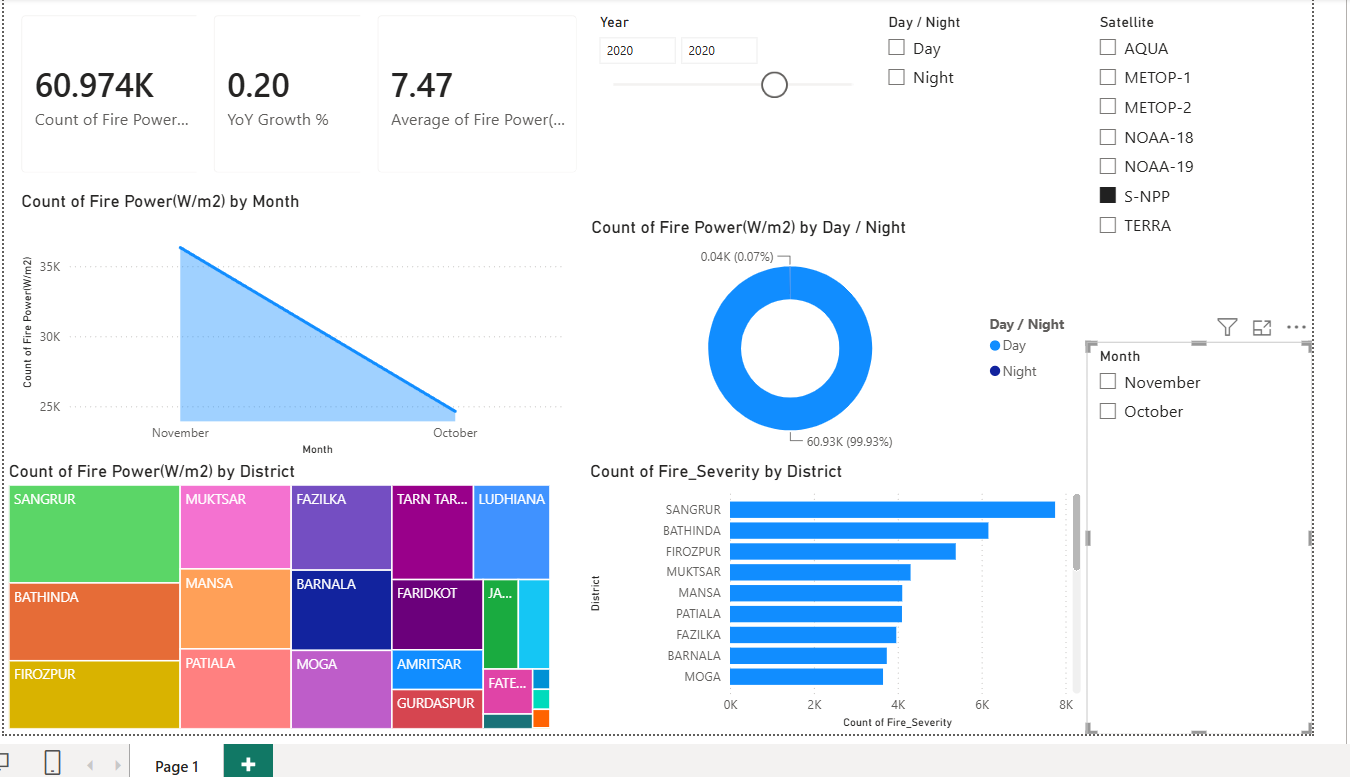

The page's visual inventory and layout, read from the dashboard file:
{"tool":"powerbi","page":{"name":"Page 1","canvas":[1280,720],"ordinal":0},"visuals":[{"type":"cardVisual","fields":{"Data":["CountNonNull(Stubble_burn_analysis.Fire Power(W/m2))"]},"box":[0,0,214,188.3],"z":0},{"type":"cardVisual","fields":{"Data":["Stubble_burn_analysis.YoY Growth %"]},"box":[188.3,0,184.6,188.3],"z":1},{"type":"slicer","fields":{"Values":["Stubble_burn_analysis.Year"]},"box":[569.8,9.8,282.5,178.5],"z":2},{"type":"slicer","fields":{"Values":["Stubble_burn_analysis.Month"]},"box":[1059.4,336.2,220.9,384.2],"z":3},{"type":"cardVisual","fields":{"Data":["Avg(Stubble_burn_analysis.Fire Power(W/m2))"]},"box":[348.5,0,229.9,188.3],"z":4},{"type":"areaChart","fields":{"Y":["CountNonNull(Stubble_burn_analysis.Fire Power(W/m2))"],"Category":["Stubble_burn_analysis.Month"]},"box":[12.3,188,542,264.8],"z":5},{"type":"donutChart","fields":{"Category":["Stubble_burn_analysis.Day / Night"],"Y":["CountNonNull(Stubble_burn_analysis.Fire Power(W/m2))"]},"box":[569.5,214.1,489.9,238.8],"z":7},{"type":"treemap","fields":{"Group":["Stubble_burn_analysis.District"],"Values":["CountNonNull(Stubble_burn_analysis.Fire Power(W/m2))"]},"box":[0,452.8,539.3,267.6],"z":8},{"type":"barChart","fields":{"Y":["CountNonNull(Stubble_burn_analysis.Fire_Severity)"],"Category":["Stubble_burn_analysis.District"]},"box":[569,453,490,267],"z":9},{"type":"slicer","fields":{"Values":["Stubble_burn_analysis.Satellite"]},"box":[1059,9.8,221.3,310.6],"z":10},{"type":"slicer","fields":{"Values":["Stubble_burn_analysis.Day / Night"]},"box":[852.3,9.8,206.7,148],"z":11}]}

Visuals, with their boxes on the page's 1280x720 design canvas (x1, y1, x2, y2). These are canvas units, not pixel positions in the 1350x777 screenshot, which may show the page scaled, cropped or inside an application window:
cardVisual - CountNonNull(Stubble_burn_analysis.Fire Power(W/m2)): [0,0,214,188]
cardVisual - Stubble_burn_analysis.YoY Growth %: [188,0,373,188]
slicer - Stubble_burn_analysis.Year: [570,10,852,188]
slicer - Stubble_burn_analysis.Month: [1059,336,1280,720]
cardVisual - Avg(Stubble_burn_analysis.Fire Power(W/m2)): [348,0,578,188]
areaChart - CountNonNull(Stubble_burn_analysis.Fire Power(W/m2)) x Stubble_burn_analysis.Month: [12,188,554,453]
donutChart - Stubble_burn_analysis.Day / Night x CountNonNull(Stubble_burn_analysis.Fire Power(W/m2)): [570,214,1059,453]
treemap - Stubble_burn_analysis.District x CountNonNull(Stubble_burn_analysis.Fire Power(W/m2)): [0,453,539,720]
barChart - CountNonNull(Stubble_burn_analysis.Fire_Severity) x Stubble_burn_analysis.District: [569,453,1059,720]
slicer - Stubble_burn_analysis.Satellite: [1059,10,1280,320]
slicer - Stubble_burn_analysis.Day / Night: [852,10,1059,158]
